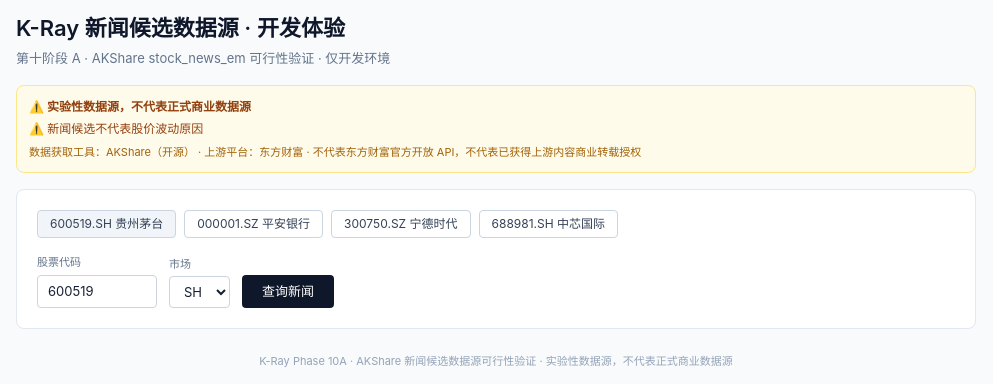
Test: 第十阶段 A 前端测试 - 开发事件源页面（封板修复版） › 测试2: 点击预设按钮更新股票代码输入框和市场选择的值
Expected: the field with test id "stock-code-input" holds "600519", [37,274,157,308]
Expected: the dropdown with test id "market-select" shows "SH", [169,276,230,308]
Click the button with test id "preset-000001" at coordinates (254, 224), box [184,210,323,238]
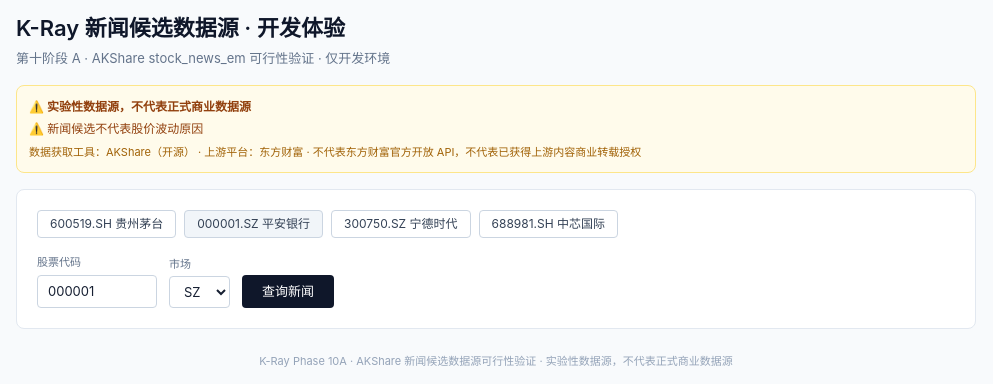
Now the field with test id "stock-code-input" holds "000001", box [37,274,157,308]
Now the dropdown with test id "market-select" shows "SZ", box [169,276,230,308]
Click the button with test id "preset-300750" at coordinates (401, 224), box [331,210,470,238]
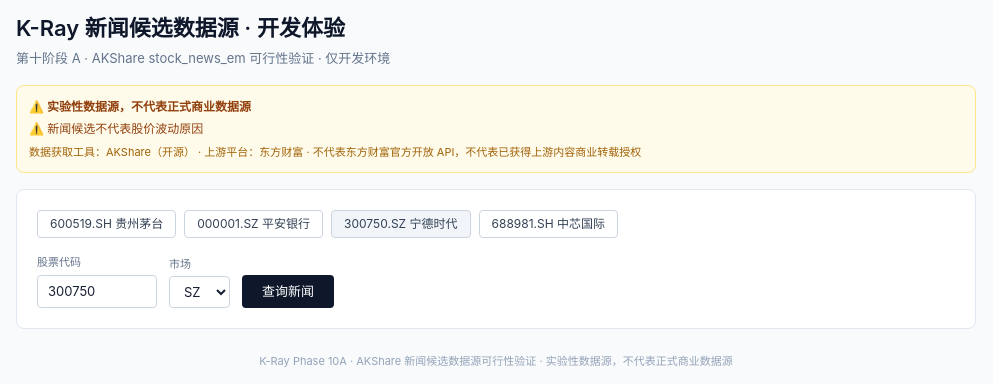
Now the dropdown with test id "market-select" shows "SZ", box [169,276,230,308]
Now the field with test id "stock-code-input" holds "300750", box [37,274,157,308]
Click the button with test id "preset-688981" at coordinates (548, 224), box [478,210,618,238]
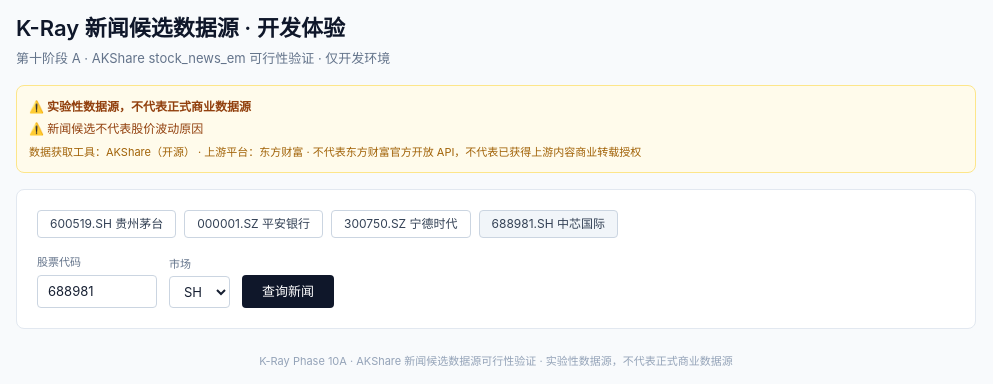
Now the field with test id "stock-code-input" holds "688981", box [37,274,157,308]
Now the dropdown with test id "market-select" shows "SH", box [169,276,230,308]
Click the button with test id "preset-600519" at coordinates (107, 224), box [37,210,176,238]
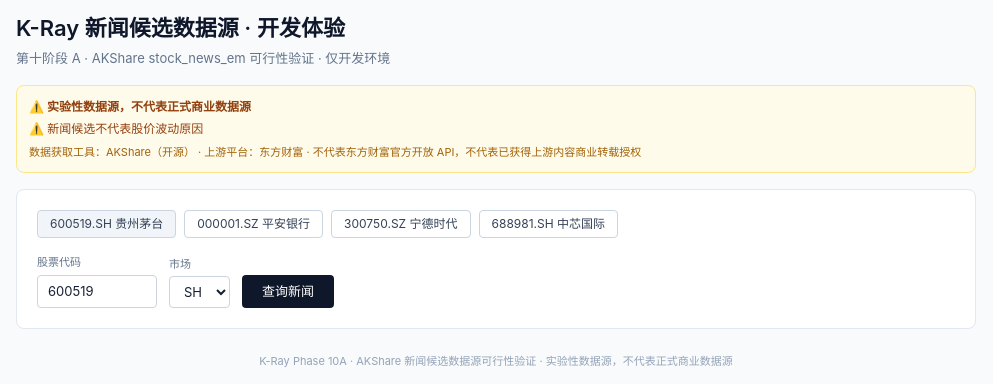
Now the dropdown with test id "market-select" shows "SH", box [169,276,230,308]
Now the field with test id "stock-code-input" holds "600519", box [37,274,157,308]
